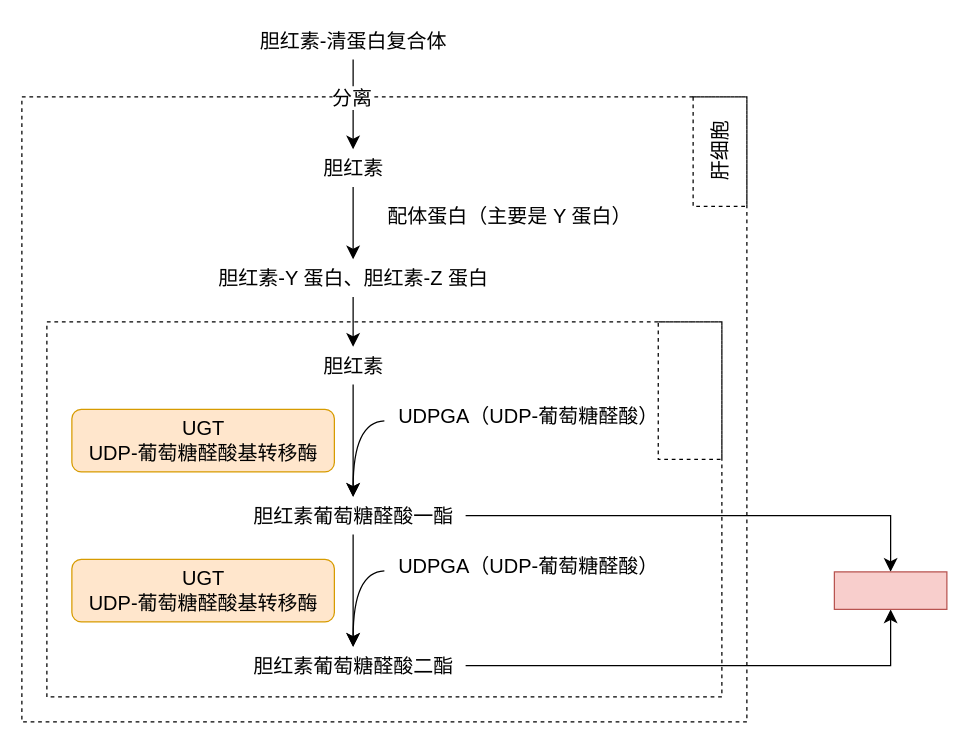
This 969x744 diagram has some shape labels left out. Each missing label, with the box of its shape:
滑面内质网: (657, 321, 722, 459)
胆管系统: (833, 571, 947, 609)
